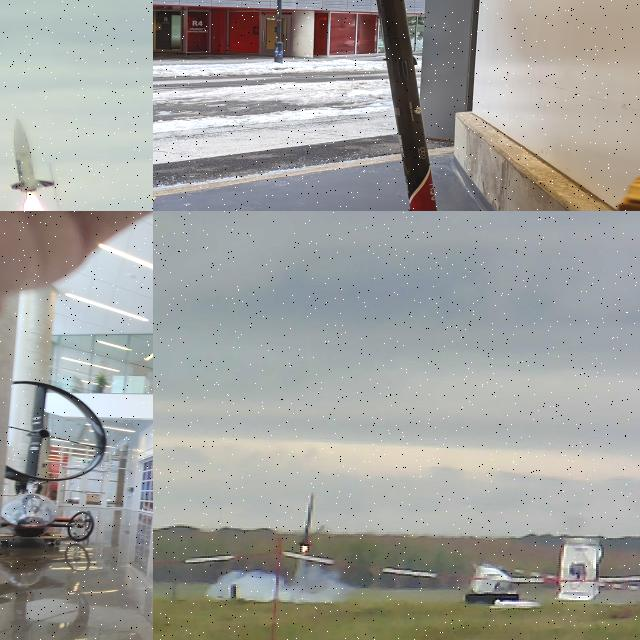Rocket: (376, 0, 438, 211), (9, 116, 55, 193), (298, 492, 315, 546)
